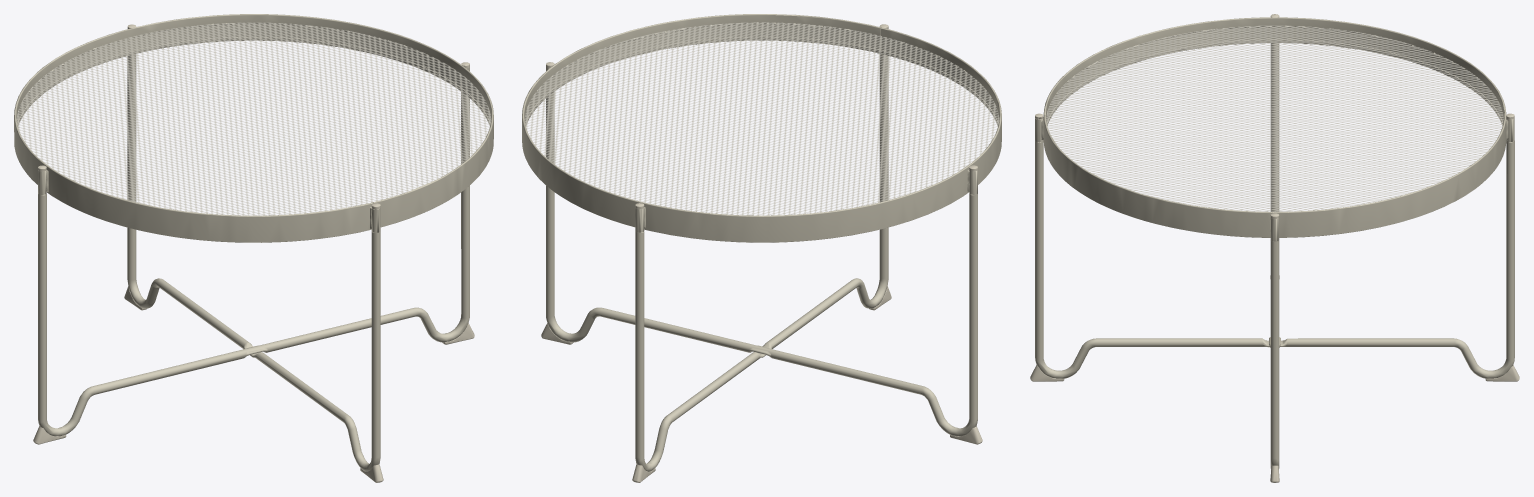
The model's file is 01 - KROKHOLMEN Coffee table, outdoor - beige 73 cm.glb.
3 views of the same model, side by side, from view 1: azimuth 30°, elevation 25°; view 2: azimuth 150°, elevation 25°; view 3: azimuth 270°, elevation 25° (orthographic). The views are drawn at different scales.
Size of the model in its own units: 0.7406 by 0.4435 by 0.7406.
2 materials, 2 textured.
